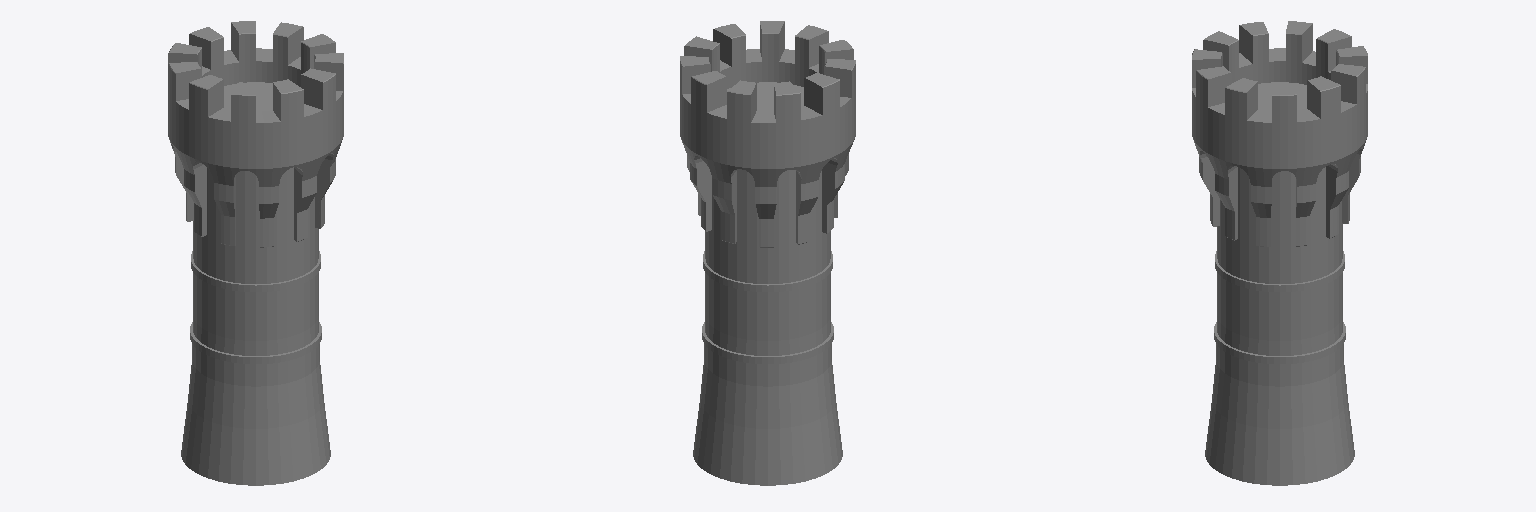
The model's file is tower.obj.
3 renders of one model, left to right at view 1: azimuth 30°, elevation 25°; view 2: azimuth 150°, elevation 25°; view 3: azimuth 270°, elevation 25°, orthographic.
Visible parts, largest first — view 1: Tower_Cilindro, Tower_Boole_Tubo_2, Tower_Tubo_1, Tower_Tube, Tower_Cilindro_1, Tower_Boole_ghost_Cubo_5, Tower_Boole_ghost_Cubo_9; view 2: Tower_Cilindro, Tower_Boole_Tubo_2, Tower_Tubo_1, Tower_Tube, Tower_Boole_ghost_Cubo_1, Tower_Boole_ghost_Cubo_6, Tower_Cilindro_1; view 3: Tower_Cilindro, Tower_Boole_Tubo_2, Tower_Tubo_1, Tower_Tube, Tower_Cilindro_1, Tower_Boole_ghost_Cubo_9, Tower_Boole_ghost_Cubo_2.
Part boxes in pixels (bbox=[...]): Tower_Cilindro: bbox=[181, 167, 330, 485]; Tower_Boole_Tubo_2: bbox=[168, 21, 343, 247]; Tower_Tubo_1: bbox=[190, 322, 321, 363]; Tower_Tube: bbox=[191, 251, 320, 291]; Tower_Cilindro_1: bbox=[224, 82, 272, 110]; Tower_Boole_ghost_Cubo_5: bbox=[193, 162, 206, 236]; Tower_Boole_ghost_Cubo_9: bbox=[315, 153, 333, 228]; Tower_Cilindro: bbox=[693, 169, 842, 485]; Tower_Boole_Tubo_2: bbox=[680, 21, 855, 247]; Tower_Tubo_1: bbox=[702, 322, 833, 363]; Tower_Tube: bbox=[703, 251, 832, 291]; Tower_Boole_ghost_Cubo_1: bbox=[694, 156, 711, 231]; Tower_Boole_ghost_Cubo_6: bbox=[822, 158, 837, 233]; Tower_Cilindro_1: bbox=[727, 82, 803, 110]; Tower_Cilindro: bbox=[1205, 167, 1354, 485]; Tower_Boole_Tubo_2: bbox=[1192, 21, 1367, 246]; Tower_Tubo_1: bbox=[1214, 322, 1345, 363]; Tower_Tube: bbox=[1215, 251, 1344, 291]; Tower_Cilindro_1: bbox=[1258, 82, 1306, 110]; Tower_Boole_ghost_Cubo_9: bbox=[1200, 151, 1219, 226]; Tower_Boole_ghost_Cubo_2: bbox=[1326, 164, 1337, 238].
Size of the model in its own units: 3.26 by 8.06 by 3.26.